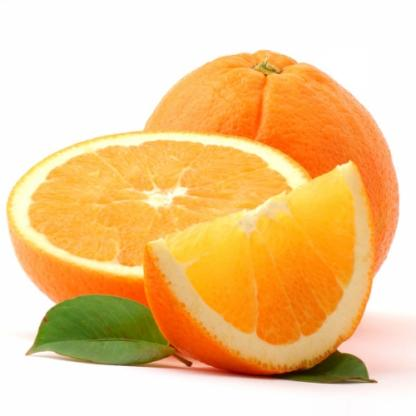orange: (132, 44, 407, 320)
